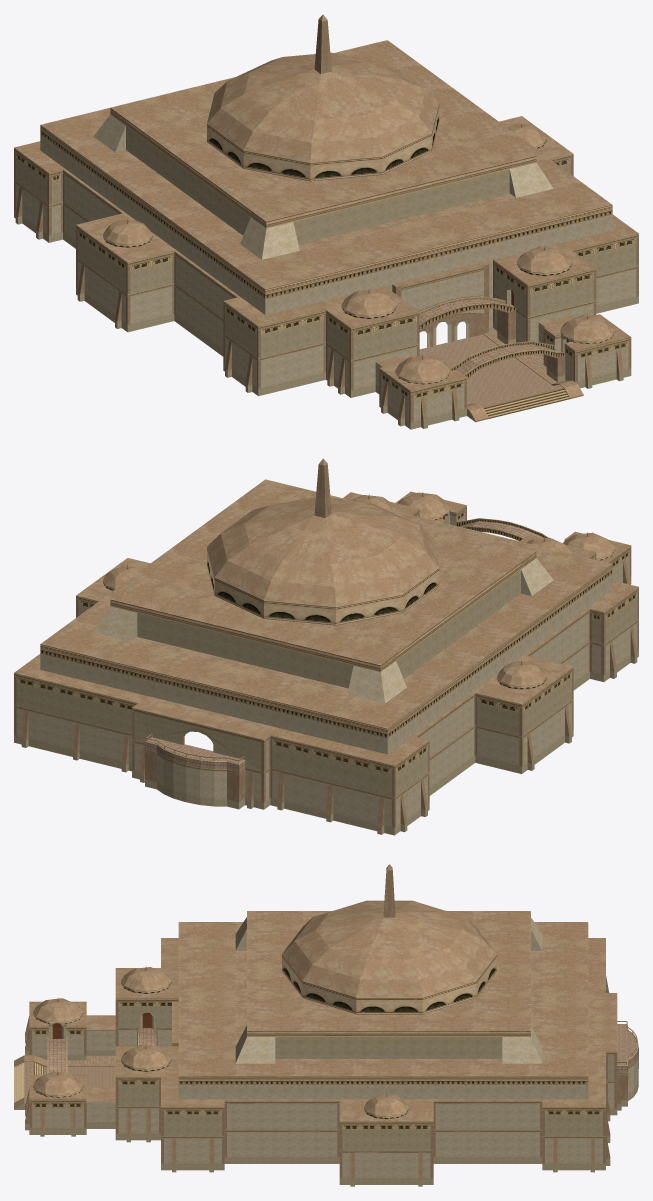
The model's file is mun_tato_capitol_s01_r0_mesh_l1.fbx.
3 views of the same model, one above another, from view 1: azimuth 30°, elevation 25°; view 2: azimuth 150°, elevation 25°; view 3: azimuth 270°, elevation 25° (orthographic). The views are drawn at different scales.
Parts seen in each view (by area): view 1: mesh_node; view 2: mesh_node; view 3: mesh_node.
Boxes of the visible parts, x1,y1,x2,y2 form: mesh_node: (14, 14, 638, 429); mesh_node: (14, 458, 638, 835); mesh_node: (14, 864, 638, 1186).
Bounding box in the file's own units: 84.08 × 43.08 × 110.
